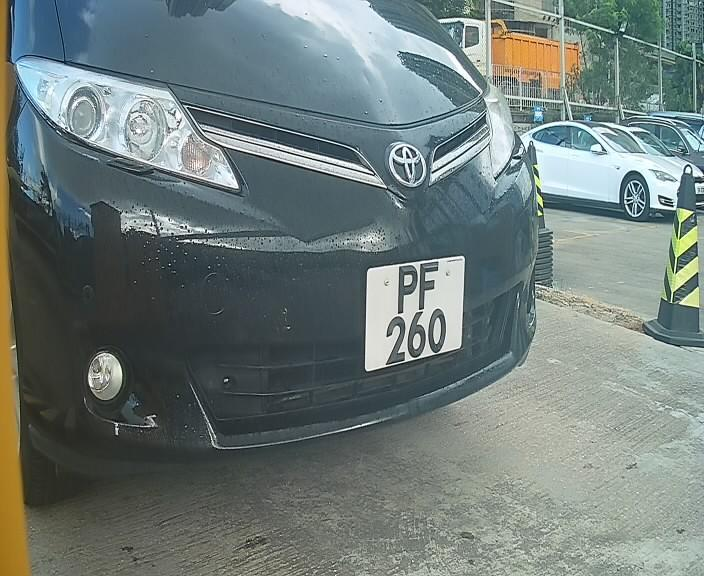License Plate: (356, 245, 469, 379)
